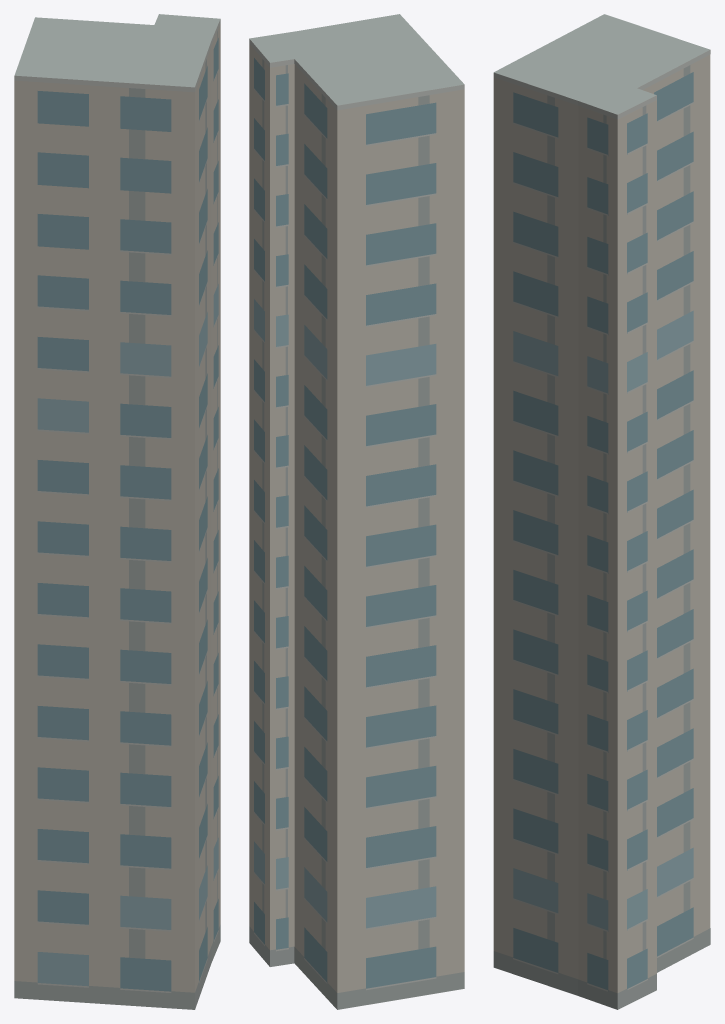
Rendered from survey-upis-32847667.glb.
The picture shows the model from 3 angles, left to right: view 1: azimuth 30°, elevation 25°; view 2: azimuth 150°, elevation 25°; view 3: azimuth 270°, elevation 25°; orthographic projection. The views are drawn at different scales.
Visible parts, largest first — view 1: survey-upis-32847667.tmp; view 2: survey-upis-32847667.tmp; view 3: survey-upis-32847667.tmp.
Boxes of the visible parts, <box> form: survey-upis-32847667.tmp: <box>14,14,220,1009</box>; survey-upis-32847667.tmp: <box>249,14,464,1009</box>; survey-upis-32847667.tmp: <box>493,14,710,1009</box>.
Size of the model in its own units: 11.06 by 45.75 by 10.05.
